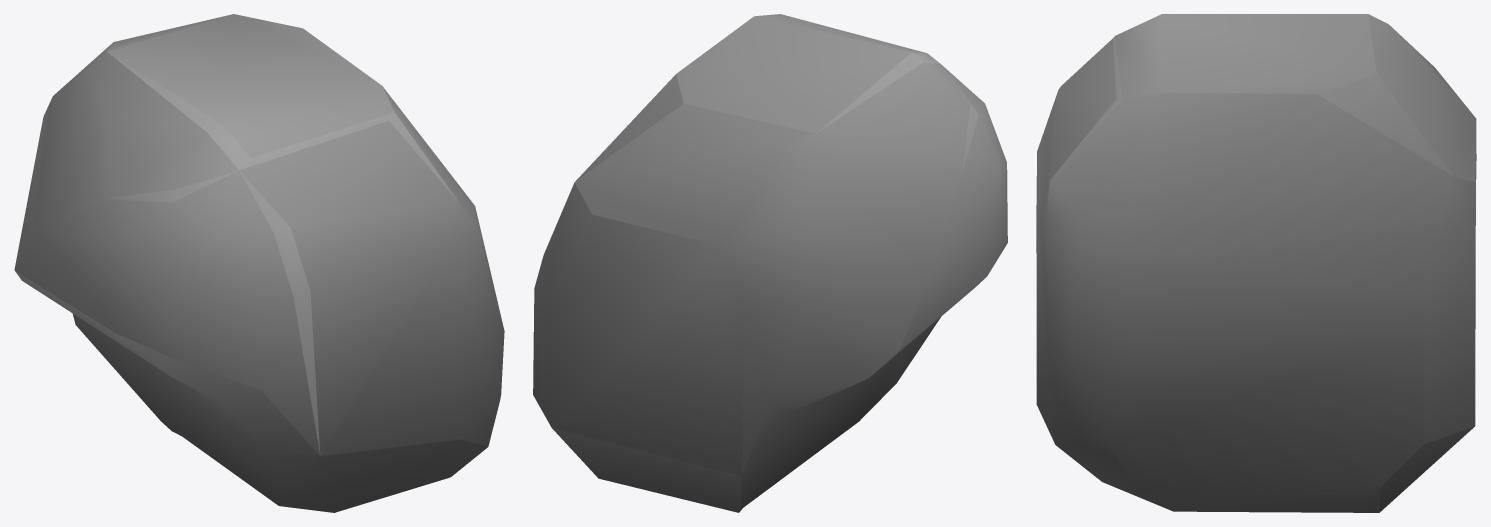
The model's file is rocks_003.glb.
3 renders of one model, left to right at view 1: azimuth 30°, elevation 25°; view 2: azimuth 150°, elevation 25°; view 3: azimuth 270°, elevation 25°, orthographic. The views are drawn at different scales.
Parts seen in each view (by area): view 1: rocks.003; view 2: rocks.003; view 3: rocks.003.
Boxes of the visible parts, x1,y1,x2,y2 form: rocks.003: (14, 14, 504, 512); rocks.003: (533, 14, 1007, 512); rocks.003: (1036, 14, 1476, 512).
Bounding box in the file's own units: 0.5459 × 0.593 × 0.594.
1 material, 1 textured.
